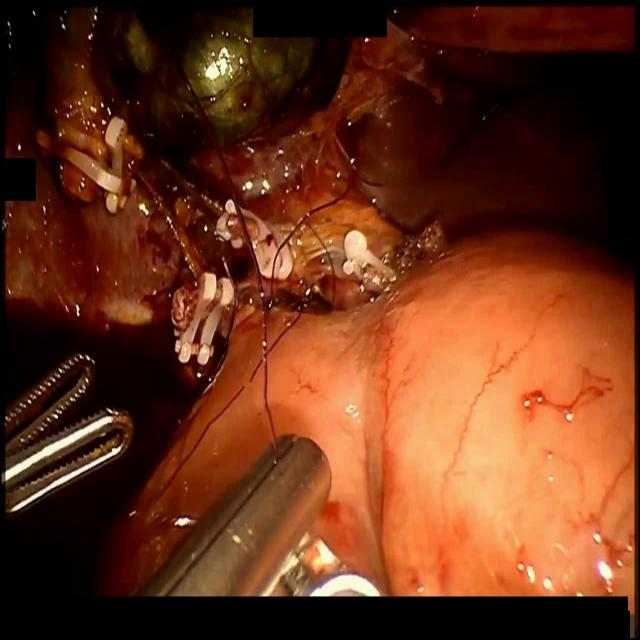surgical-area: (2, 0, 638, 602)
surgical-tool: (130, 432, 331, 602), (4, 349, 134, 518)
